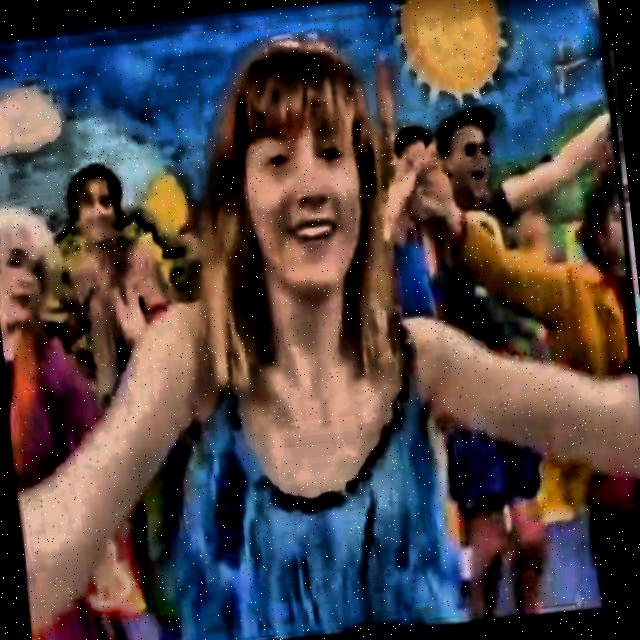happy: (202, 38, 385, 331), (0, 193, 69, 357), (50, 159, 135, 267), (431, 99, 508, 217)
